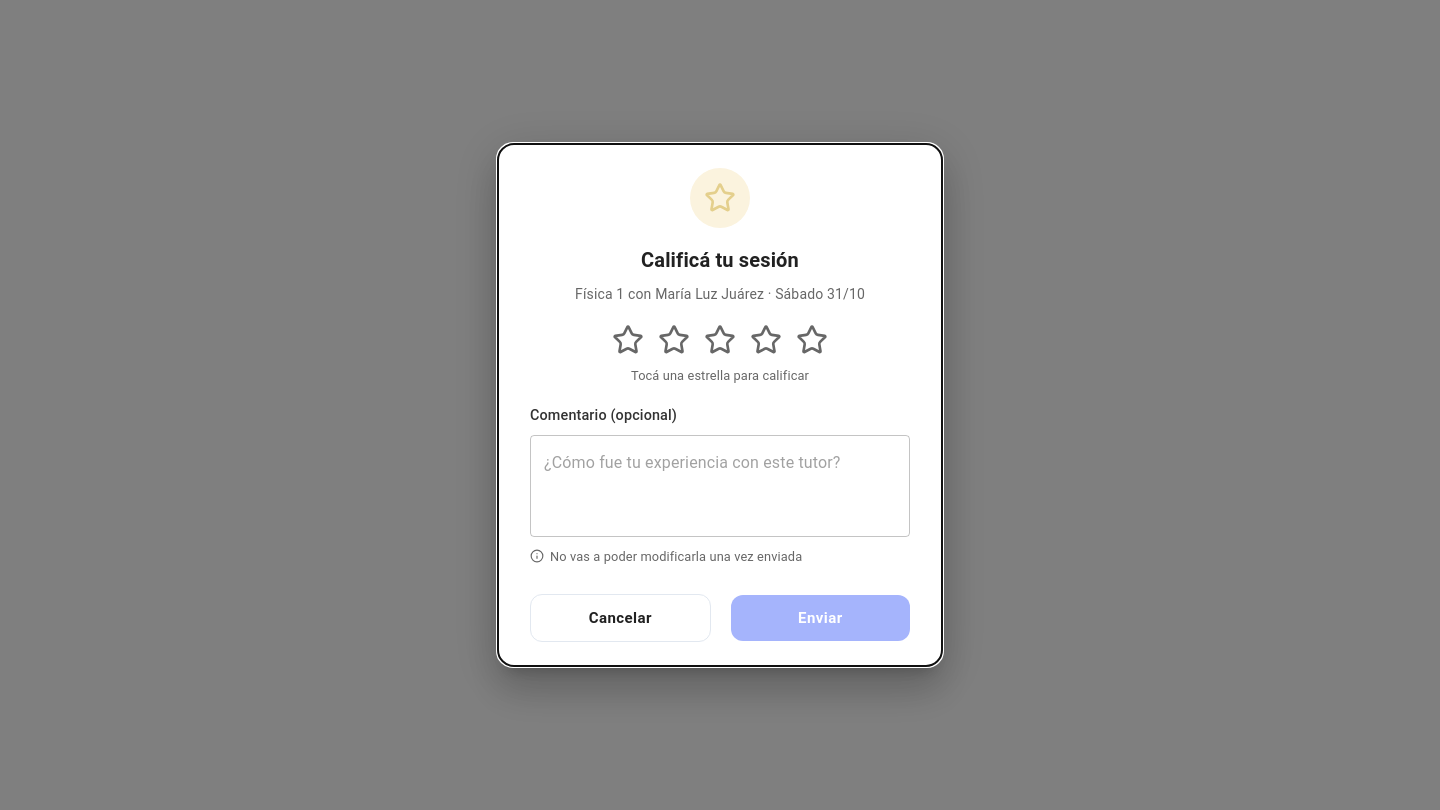
Test case: RatingPopupHost › al calificar con exito muestra el dialogo de exito
Click the radio button named "5 estrellas": (812, 340) [792,320,832,360]
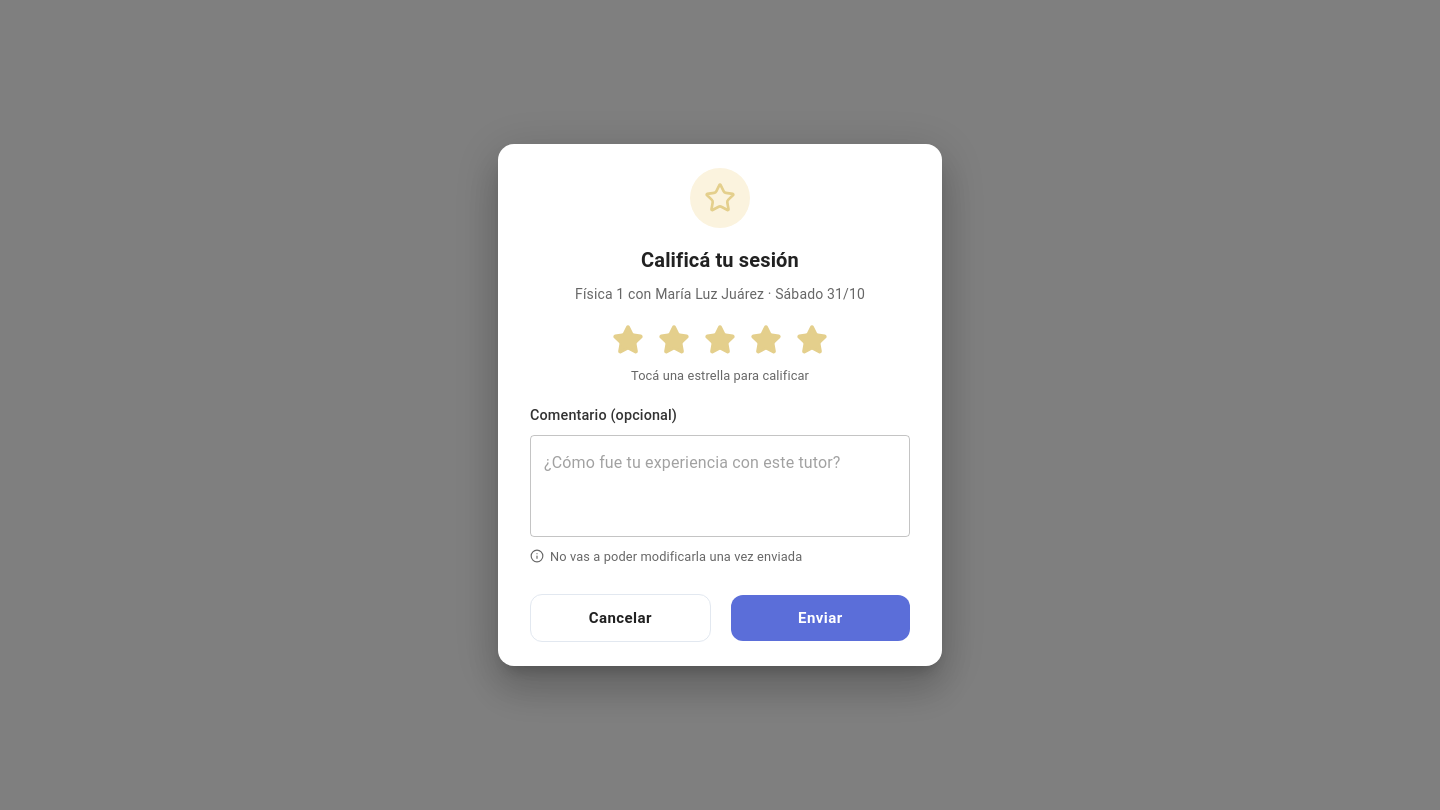
Click the button "Enviar": (820, 618) [731,595,910,641]
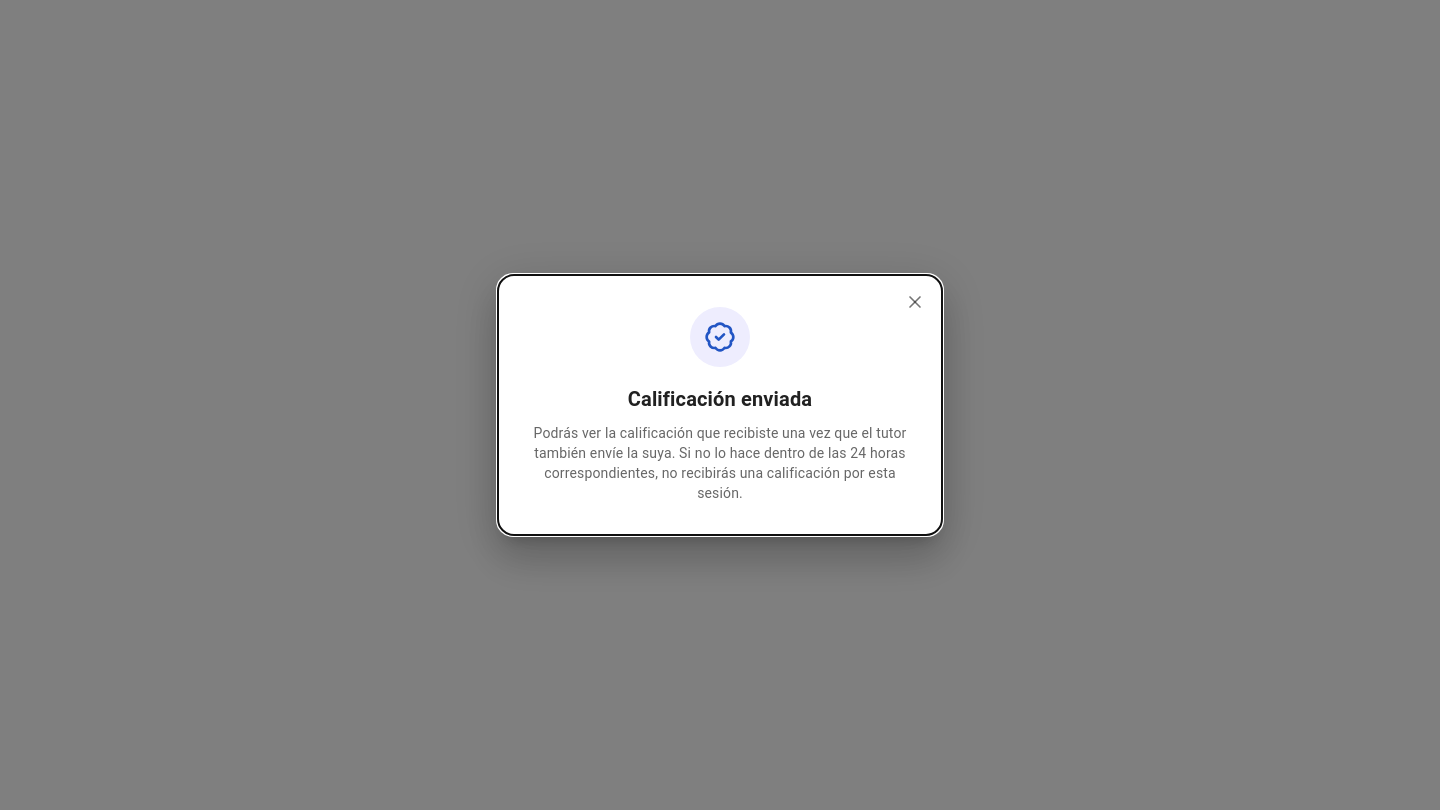
Check: the heading "Calificación enviada" is shown, box [628,383,812,415]
